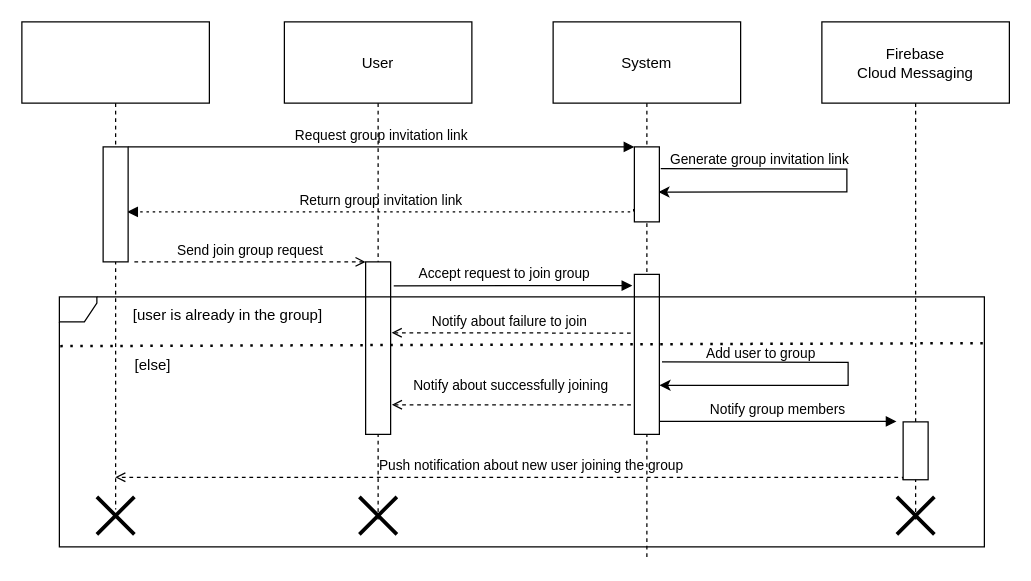
Some shapes in this 1031 by 581 pixel diagram are drawn without their labels. The shapes that lost their labels are listed below. From the top down, each one's box as (x1, y1, x2, y2) in pixels, then its label:
(21, 21, 209, 509): Group Member User
(58, 296, 984, 547): alt
